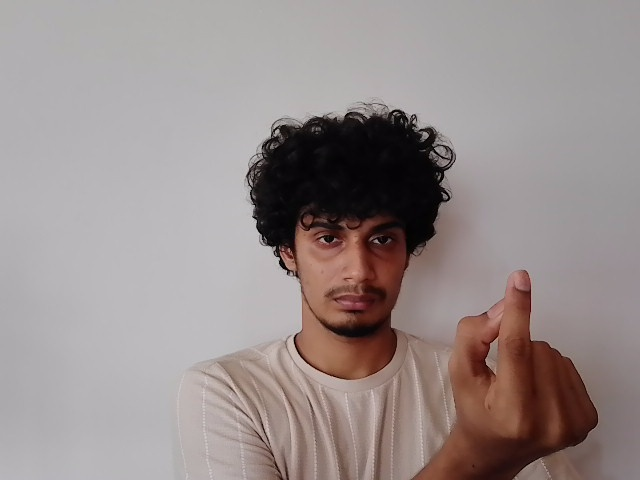just: (449, 272, 602, 463)
